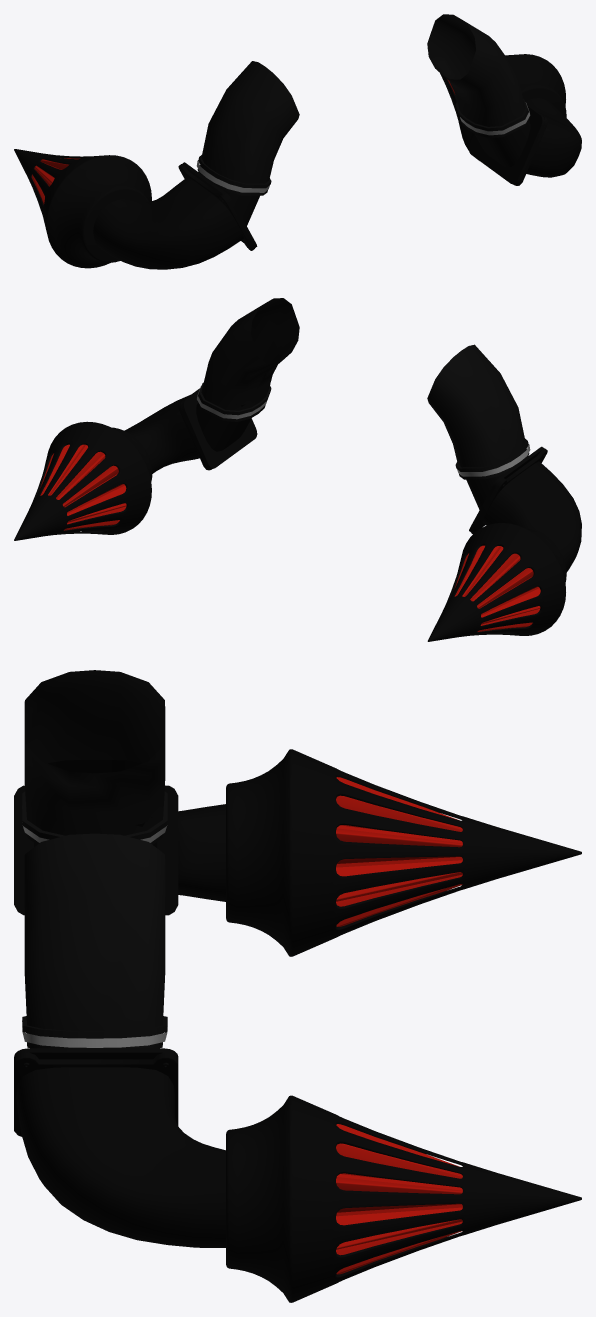
The model's file is Intake_SPIKE_BLK_MTT.glb.
3 renders of one model, top to bottom at view 1: azimuth 30°, elevation 25°; view 2: azimuth 150°, elevation 25°; view 3: azimuth 270°, elevation 25°, orthographic. The views are drawn at different scales.
Visible parts, largest first — view 1: Intake_SPIKE_BLK_MTT; view 2: Intake_SPIKE_BLK_MTT; view 3: Intake_SPIKE_BLK_MTT.
Part boxes in pixels (x1=…): Intake_SPIKE_BLK_MTT: x1=14, y1=14, x2=581, y2=269; Intake_SPIKE_BLK_MTT: x1=14, y1=298, x2=581, y2=641; Intake_SPIKE_BLK_MTT: x1=14, y1=670, x2=581, y2=1302.
Bounding box in the file's own units: 0.6159 × 0.2438 × 0.3407.
